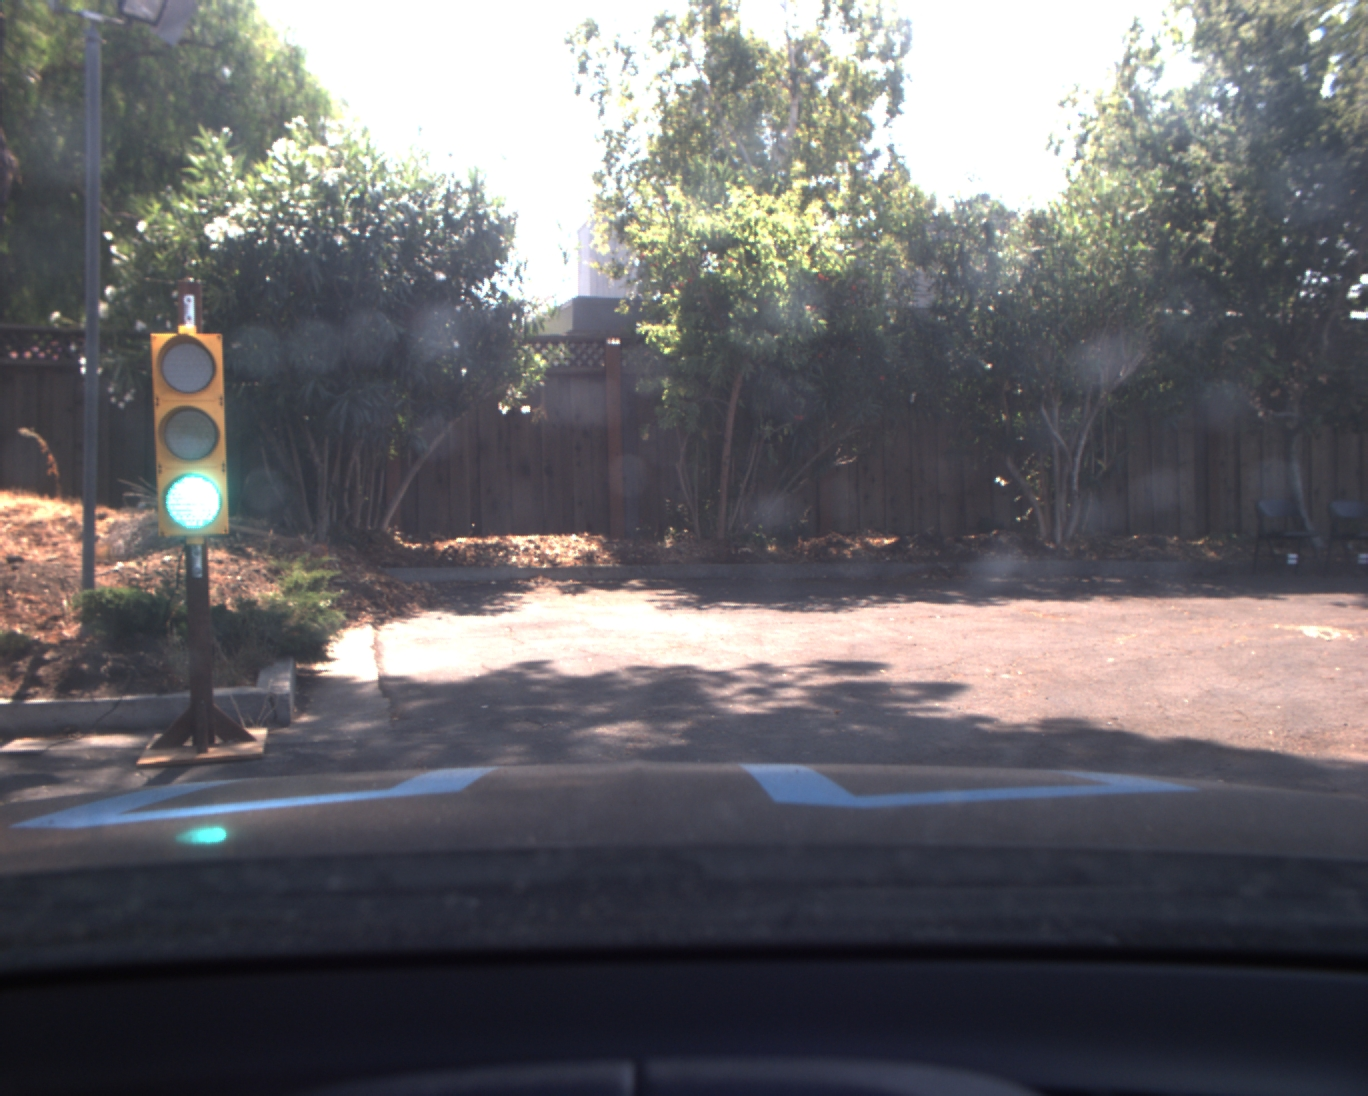green: (149, 329, 233, 539)
